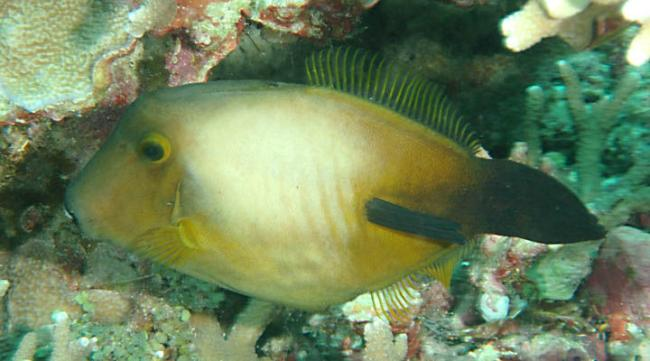fish: (65, 49, 607, 312)
